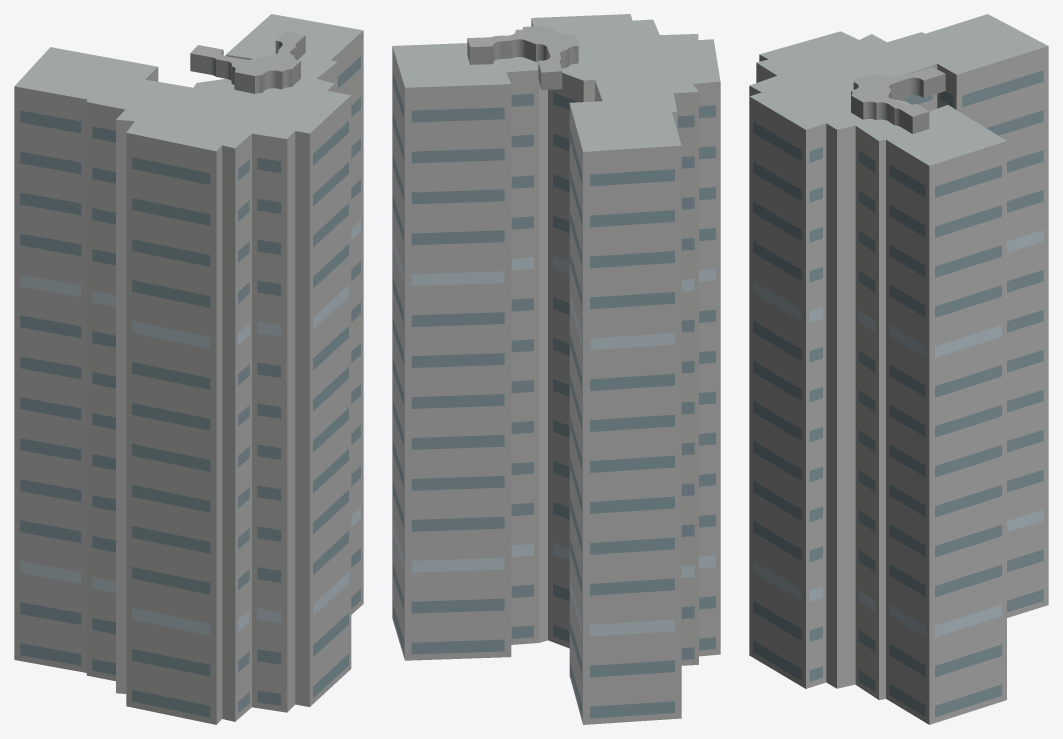
Rendered from fallback-gangdong-lotte-castle-first-103.glb.
The picture shows the model from 3 angles, left to right: view 1: azimuth 30°, elevation 25°; view 2: azimuth 150°, elevation 25°; view 3: azimuth 270°, elevation 25°; orthographic projection. The views are drawn at different scales.
Visible parts, largest first — view 1: fallback-gangdong-lotte-castle-first-103; view 2: fallback-gangdong-lotte-castle-first-103; view 3: fallback-gangdong-lotte-castle-first-103.
Boxes of the visible parts, x1=… form: fallback-gangdong-lotte-castle-first-103: x1=14, y1=14, x2=363, y2=724; fallback-gangdong-lotte-castle-first-103: x1=392, y1=14, x2=720, y2=724; fallback-gangdong-lotte-castle-first-103: x1=749, y1=14, x2=1048, y2=724.
Size of the model in its own units: 45.21 by 80 by 37.64.
